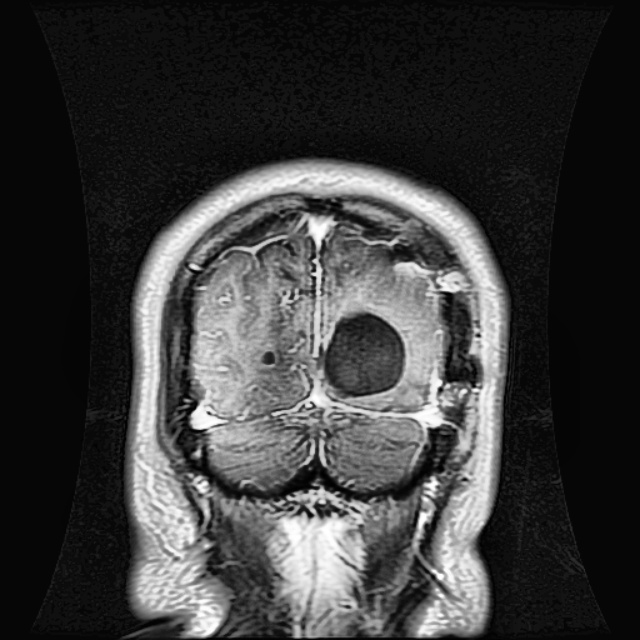Meningioma: (324, 314, 408, 394)
